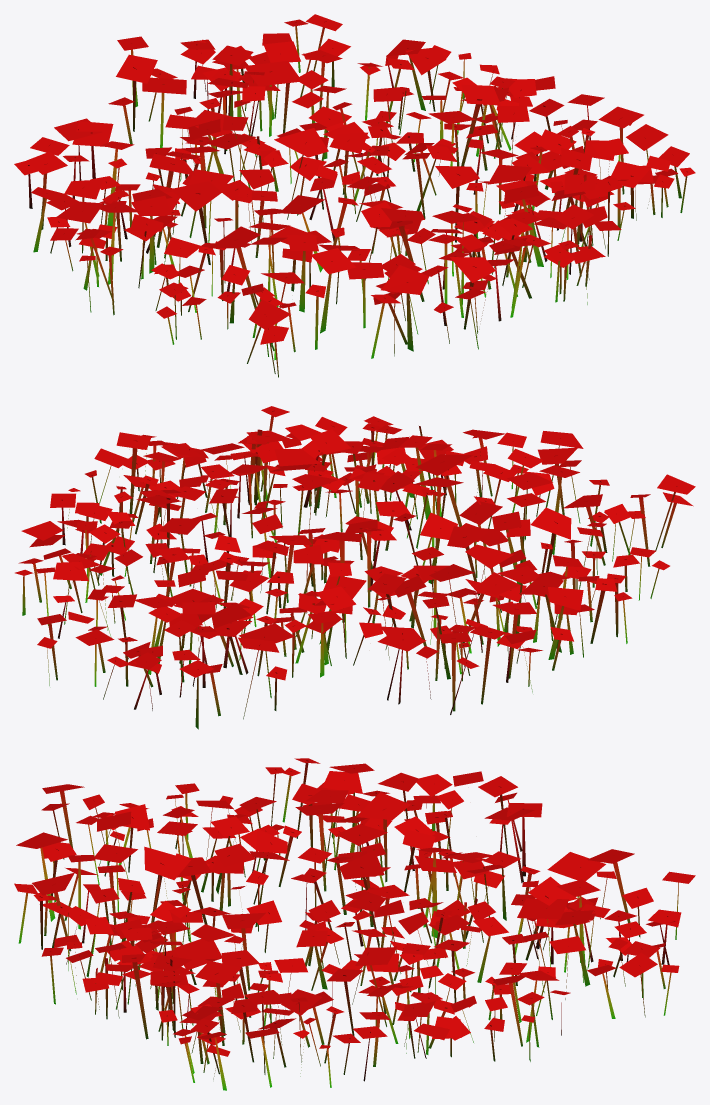
File: Plant_B_04.FBX
3 views of the same model, one above another, from view 1: azimuth 30°, elevation 25°; view 2: azimuth 150°, elevation 25°; view 3: azimuth 270°, elevation 25° (orthographic). The views are drawn at different scales.
Visible parts, largest first — view 1: Geometry_Plant_B_04_LOD00; view 2: Geometry_Plant_B_04_LOD00; view 3: Geometry_Plant_B_04_LOD00.
Part boxes in pixels (x1,y1,x2,y2): Geometry_Plant_B_04_LOD00: (14,14,695,377); Geometry_Plant_B_04_LOD00: (15,406,695,729); Geometry_Plant_B_04_LOD00: (14,758,695,1090).
Size of what is drawn, in the model's own units: 102 by 15.39 by 108.
